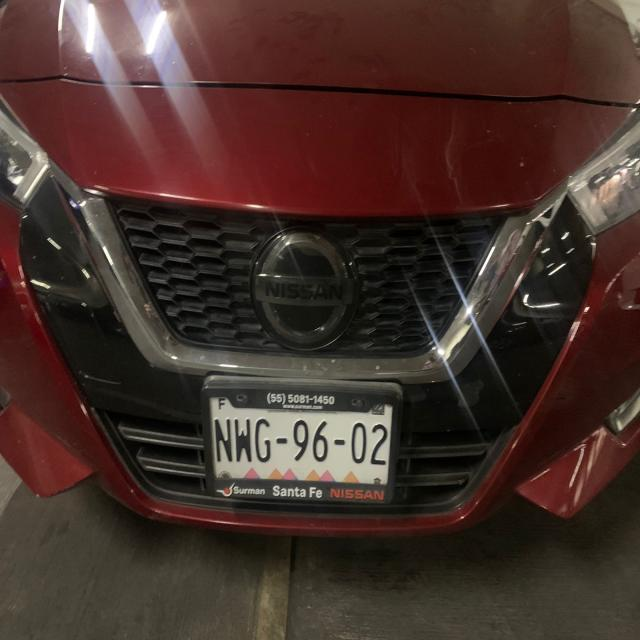placa: (209, 409, 390, 475)
